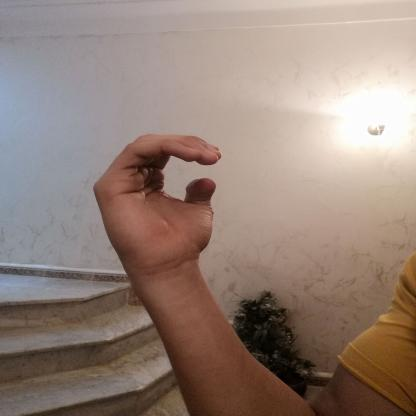JEEM: (76, 124, 238, 280)
